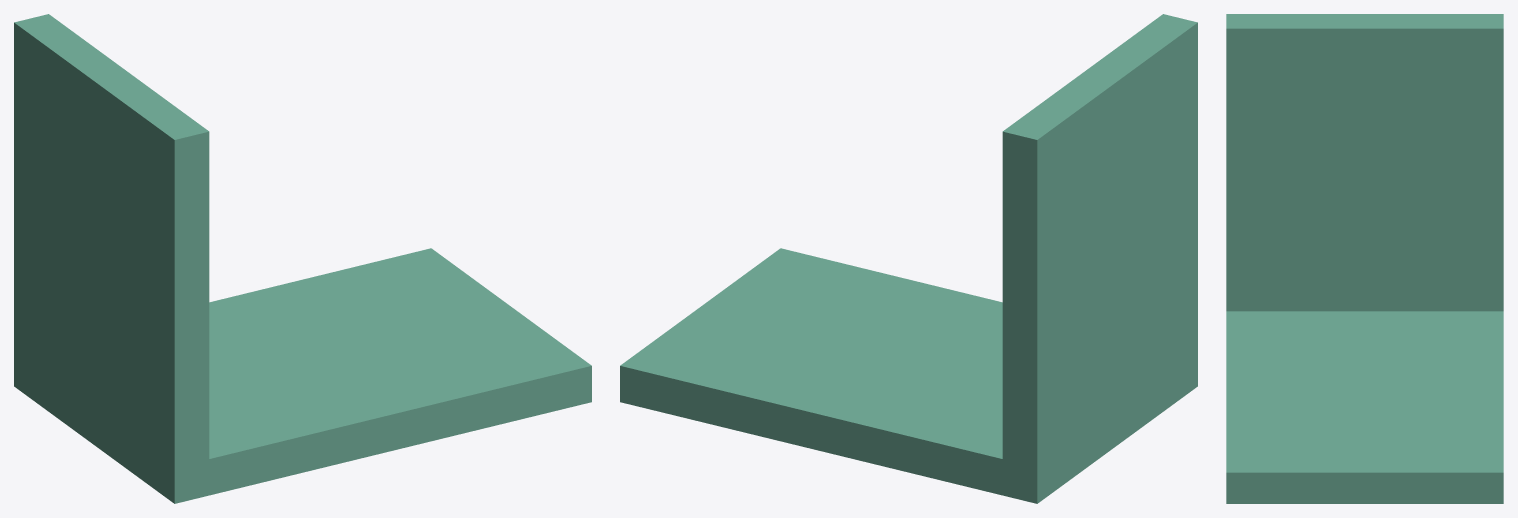
File: step_02.glb
3 views of the same model, side by side, from view 1: azimuth 30°, elevation 25°; view 2: azimuth 150°, elevation 25°; view 3: azimuth 270°, elevation 25° (orthographic). The views are drawn at different scales.
Visible parts, largest first — view 1: part__L bracket; view 2: part__L bracket; view 3: part__L bracket.
Part boxes in pixels (x1,y1,x2,y2): part__L bracket: (14,14,591,503); part__L bracket: (620,14,1197,503); part__L bracket: (1226,14,1503,503).
Bounding box in the file's own units: 60 × 50 × 40.
